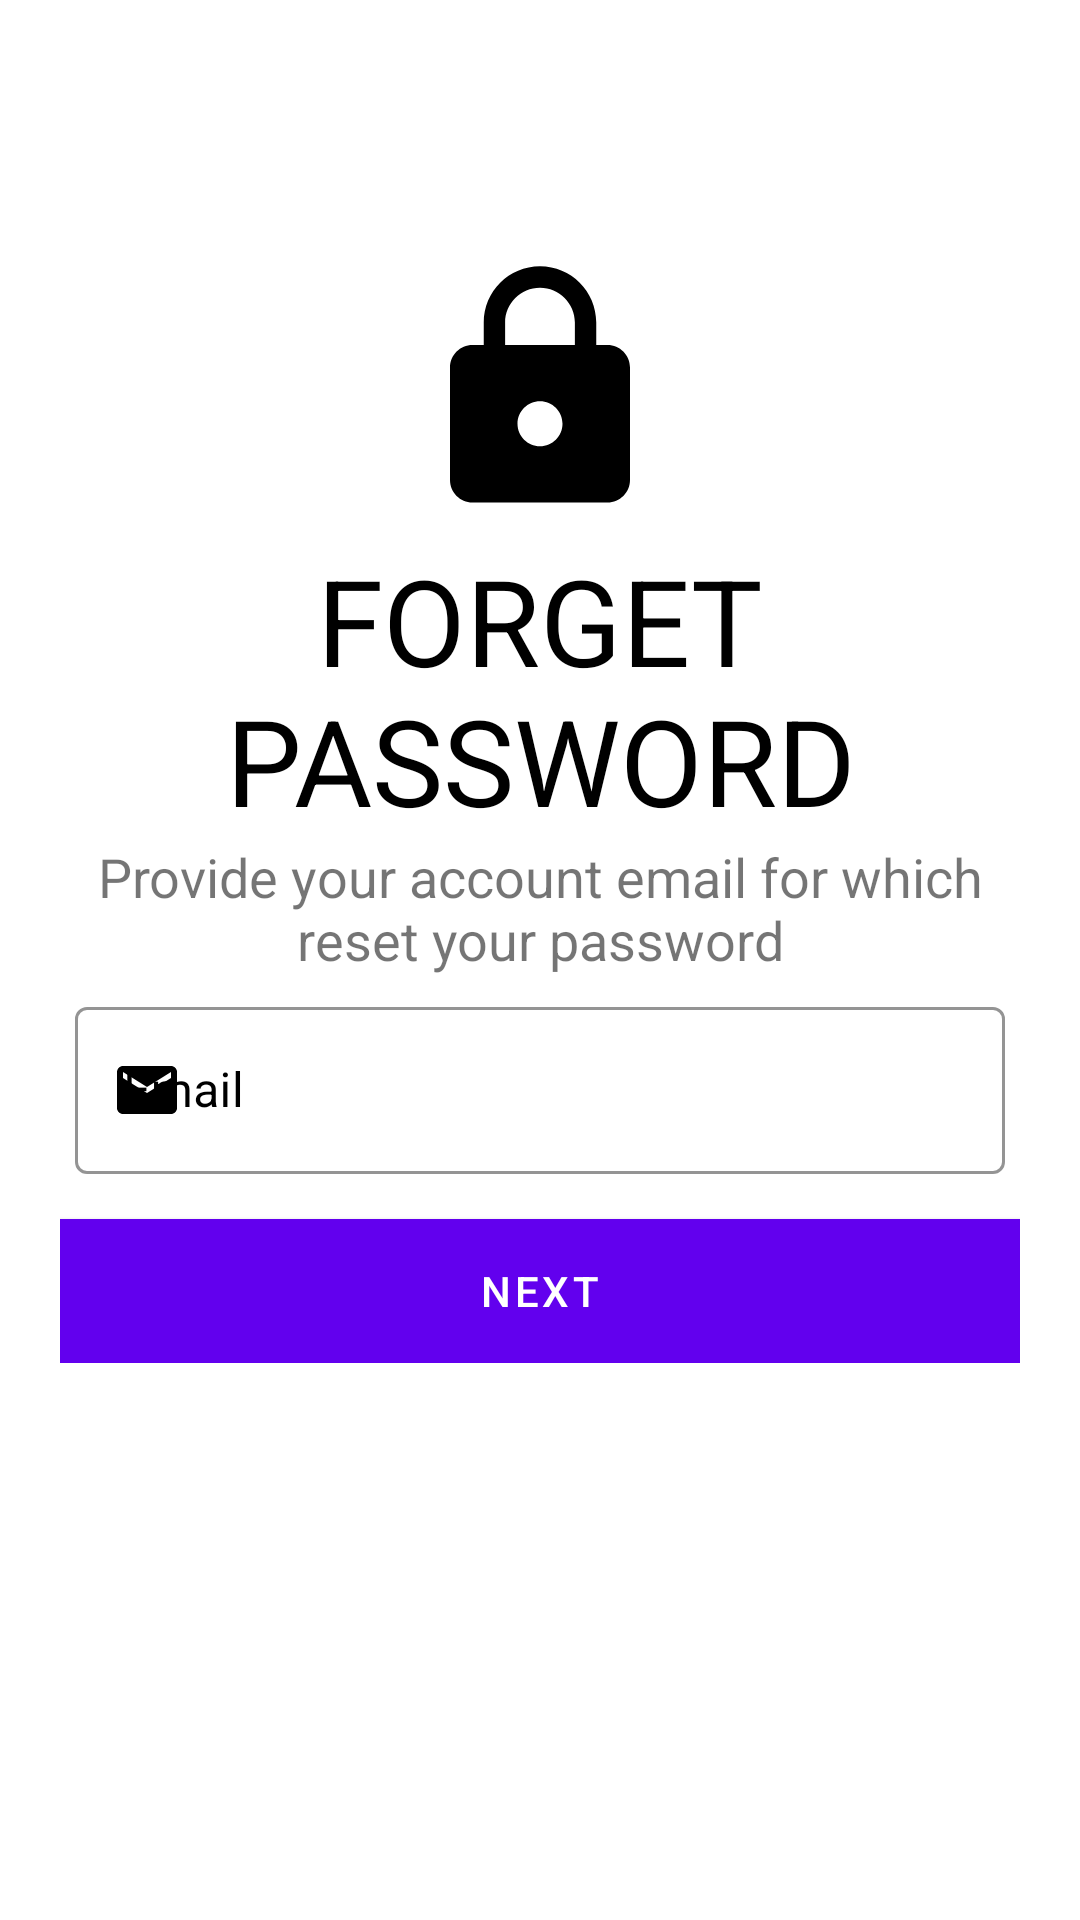

Icons on this 1080×1920 Android screen, each with its box as (left=x1, top=y1, right=x2, bottom=y2):
lock: (left=450, top=266, right=630, bottom=503)
